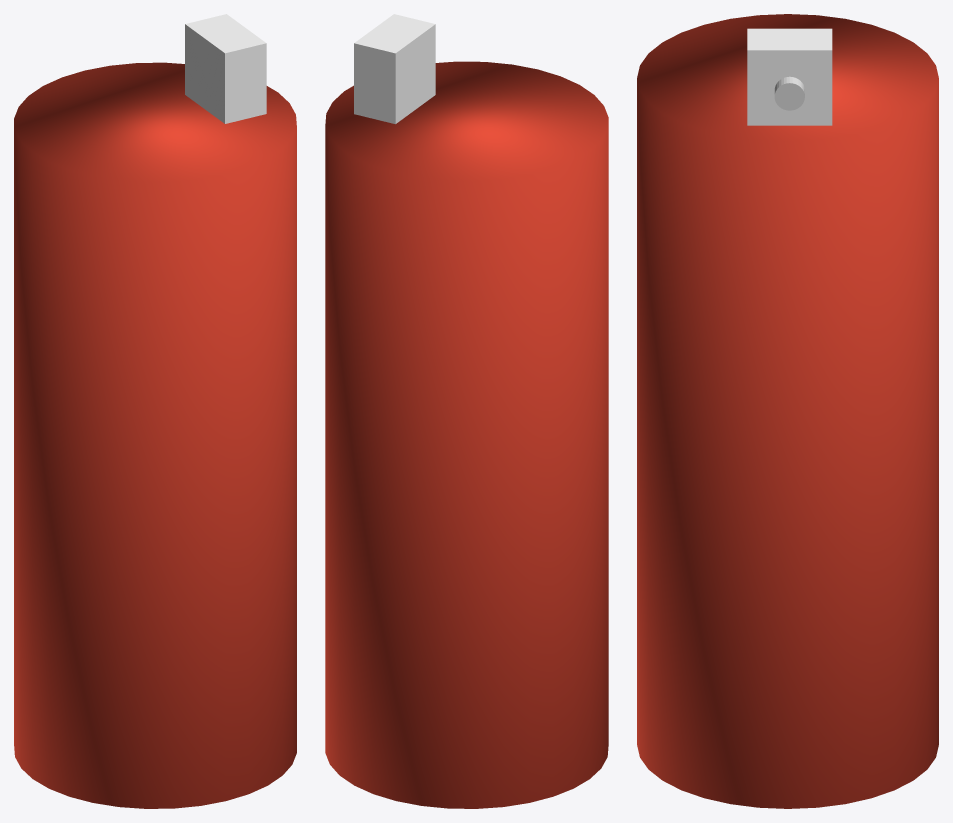
Rendered from スプレー.fbx.
3 renders of one model, left to right at view 1: azimuth 30°, elevation 25°; view 2: azimuth 150°, elevation 25°; view 3: azimuth 270°, elevation 25°, orthographic. The views are drawn at different scales.
Visible parts, largest first — view 1: 円柱, 立方体; view 2: 円柱, 立方体; view 3: 円柱, 立方体, 円柱.001.
Boxes of the visible parts, x1=… form: 円柱: x1=14, y1=62, x2=296, y2=808; 立方体: x1=185, y1=14, x2=266, y2=123; 円柱: x1=325, y1=61, x2=608, y2=808; 立方体: x1=354, y1=14, x2=435, y2=124; 円柱: x1=637, y1=14, x2=938, y2=808; 立方体: x1=747, y1=28, x2=832, y2=125; 円柱.001: x1=774, y1=76, x2=804, y2=110.
Size of the model in its own units: 650 by 1765 by 650.
